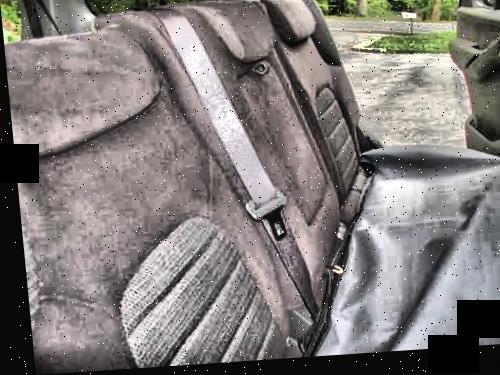seatbelt: (170, 7, 324, 305)
